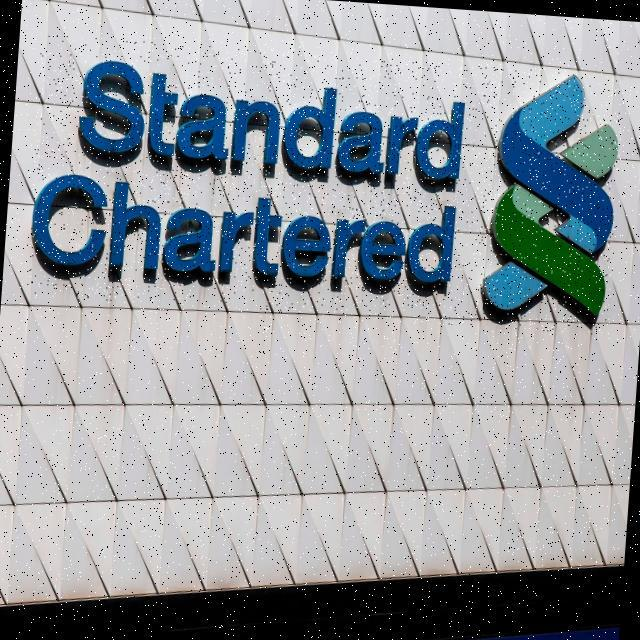Standard Chartered: (23, 34, 626, 336)
